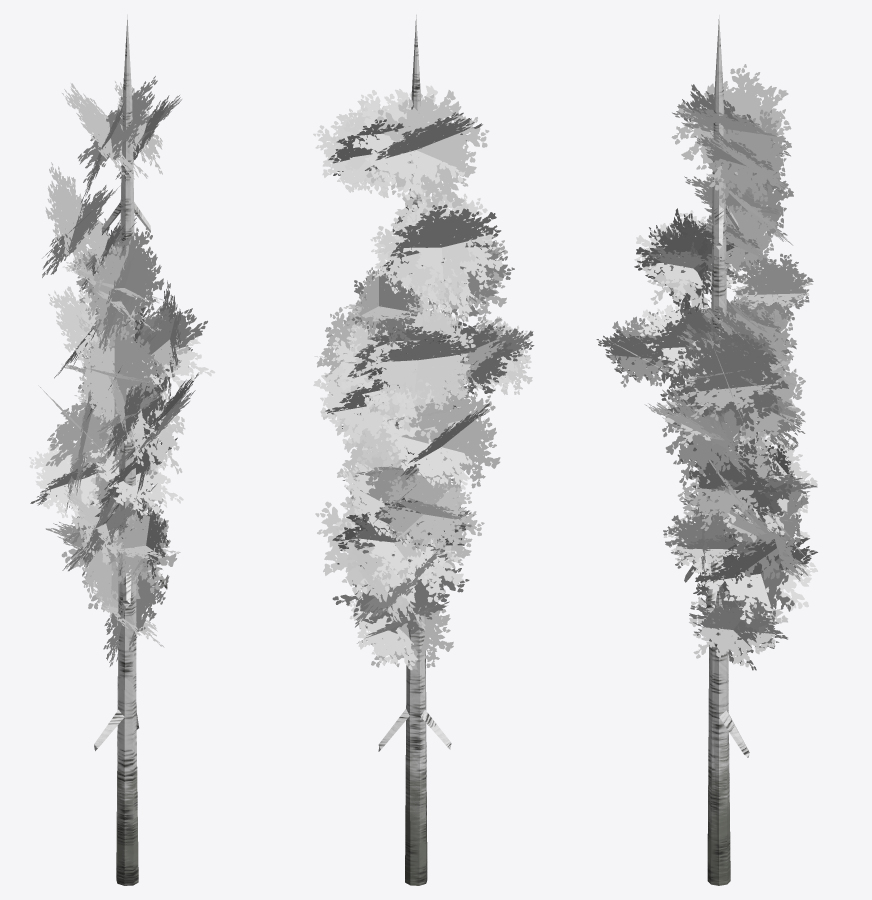
File: BirchThin2.fbx
3 views of the same model, side by side, from view 1: azimuth 30°, elevation 25°; view 2: azimuth 150°, elevation 25°; view 3: azimuth 270°, elevation 25° (orthographic).
Parts seen in each view (by area): view 1: Birch_Thin2; view 2: Birch_Thin2; view 3: Birch_Thin2.
Part boxes in pixels (x1,y1,x2,y2): Birch_Thin2: (29,14,215,885); Birch_Thin2: (313,15,534,885); Birch_Thin2: (596,15,817,885).
Size of the model in its own units: 420 by 1648 by 469.
